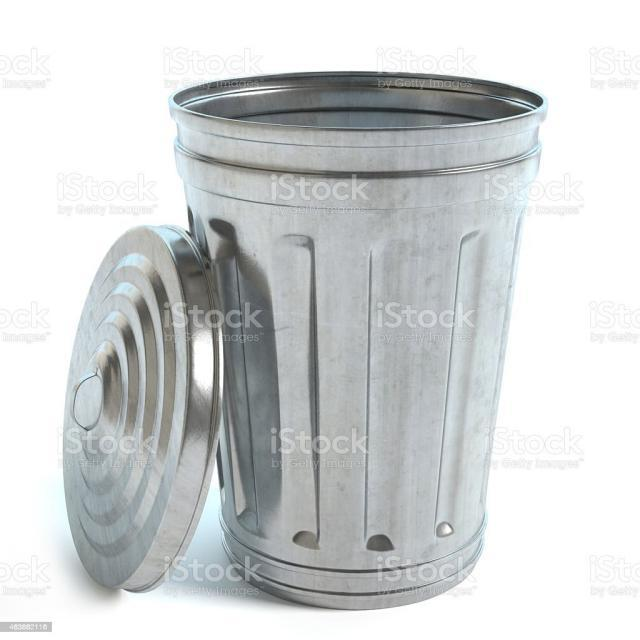Dumpster: (165, 66, 542, 614)
